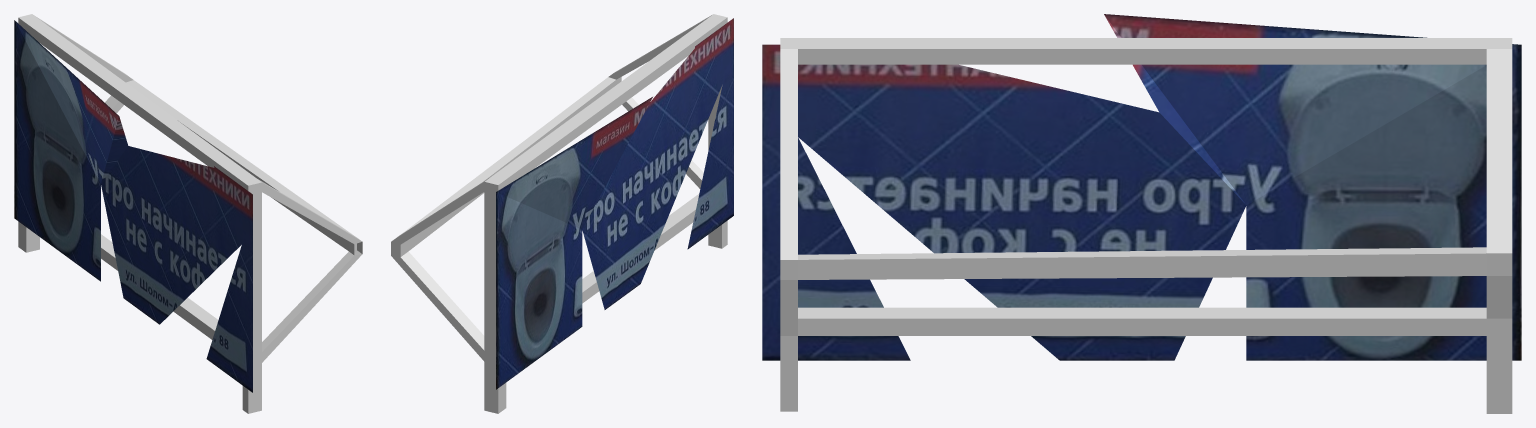
File: PLakat.fbx
The picture shows the model from 3 angles, left to right: view 1: azimuth 30°, elevation 25°; view 2: azimuth 150°, elevation 25°; view 3: azimuth 270°, elevation 25°; orthographic projection. The views are drawn at different scales.
Parts seen in each view (by area): view 1: Cube.053; view 2: Cube.053; view 3: Cube.053.
Boxes of the visible parts, box(x1,y1,x2,y2) form: Cube.053: box(14, 14, 362, 413); Cube.053: box(391, 14, 733, 413); Cube.053: box(762, 14, 1521, 413).
Bounding box in the file's own units: 622 × 971 × 1816.
